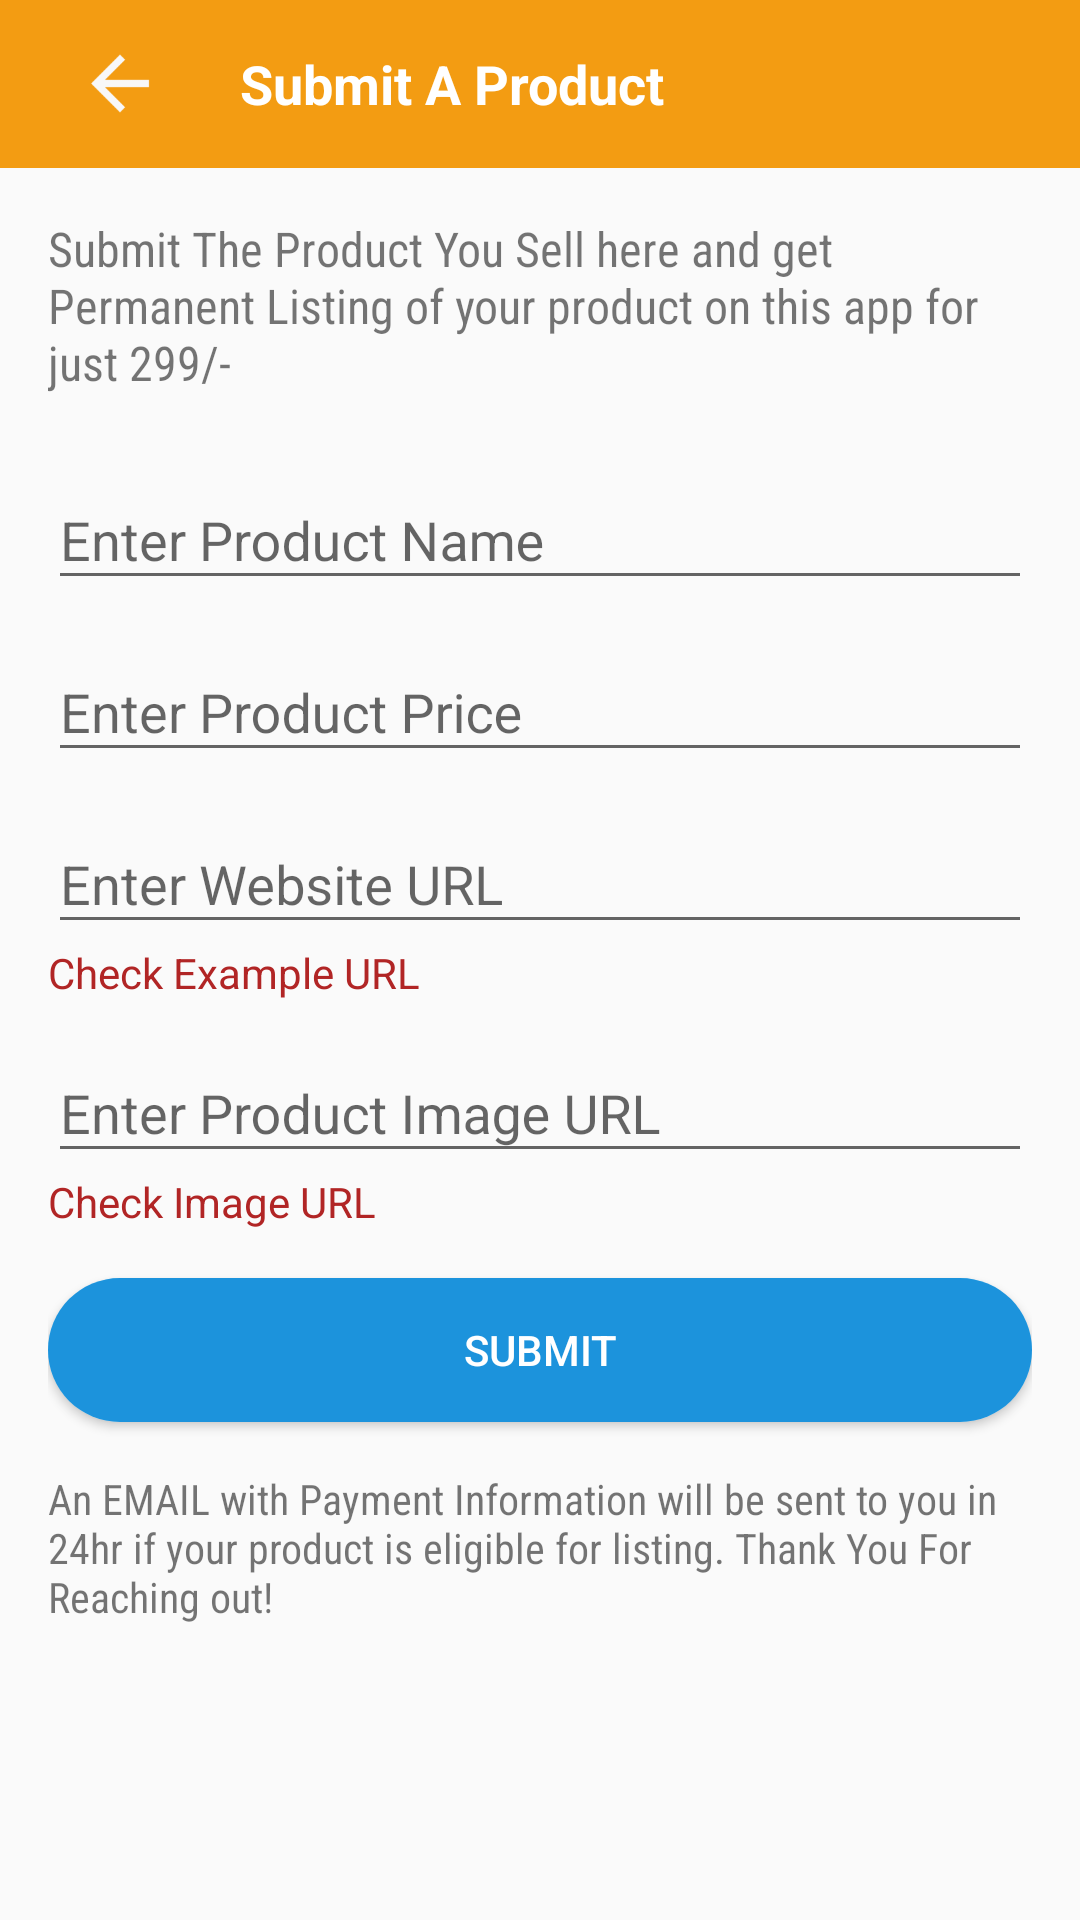

Where to tap for icons on this 1080*1920 app screen, as [x,y]:
back: [120,83]
